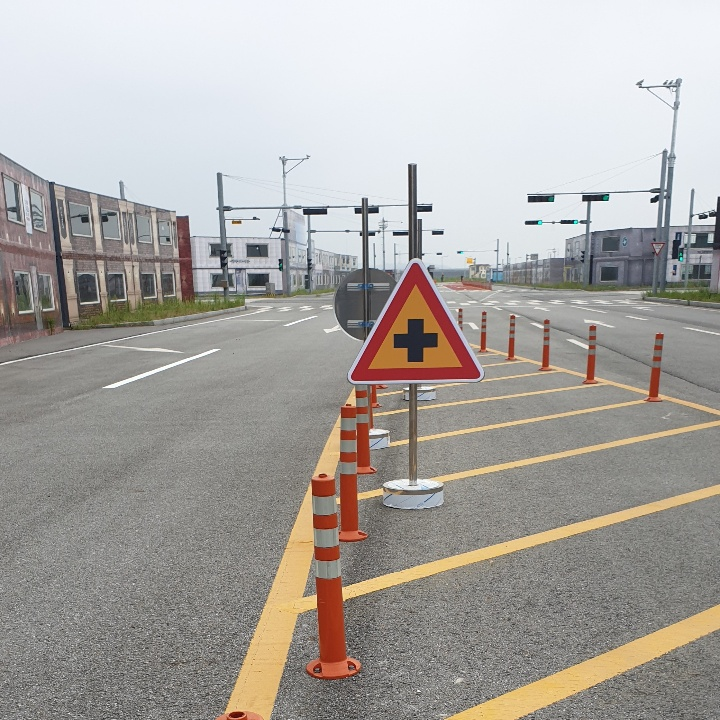inter: (388, 312, 443, 368)
